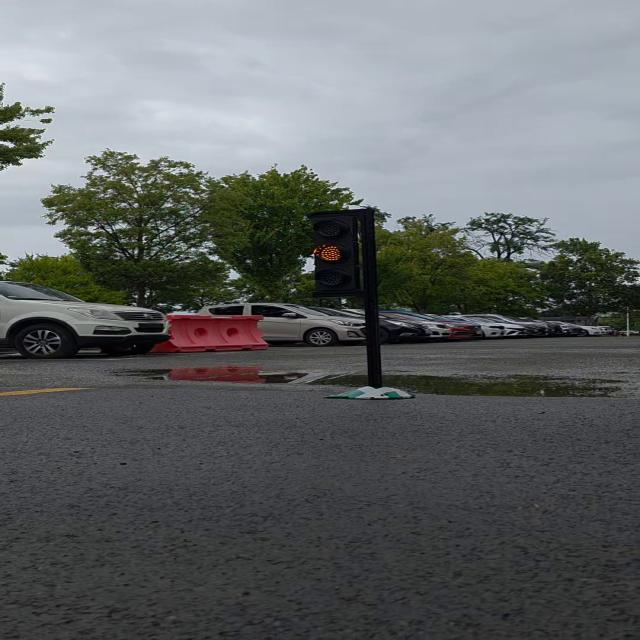yellow: (292, 206, 378, 304)
